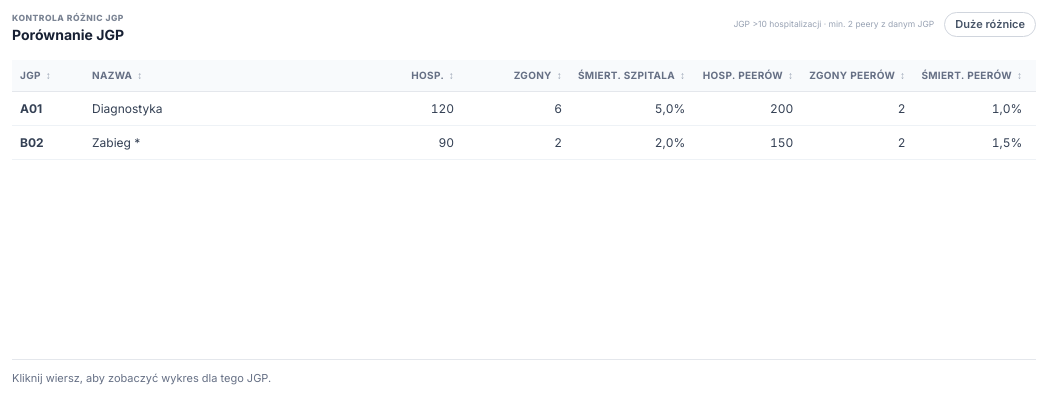
Test: JgpMortalityDifferenceTable — odchylenia JGP › filtruje JGP po dużych różnicach śmiertelności i zmienia aria-pressed
Click the button "Duże różnice" at (990, 24), box [944,12,1036,37]
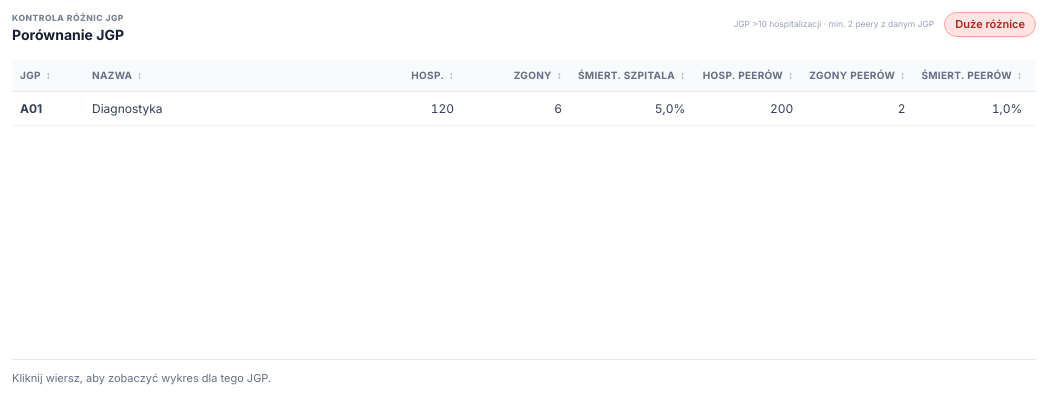
Expected: the text "A01" is shown, [20,100,42,116]
Result: the text "B02" is gone
Click the button "Duże różnice" at (990, 24), box [944,12,1036,37]
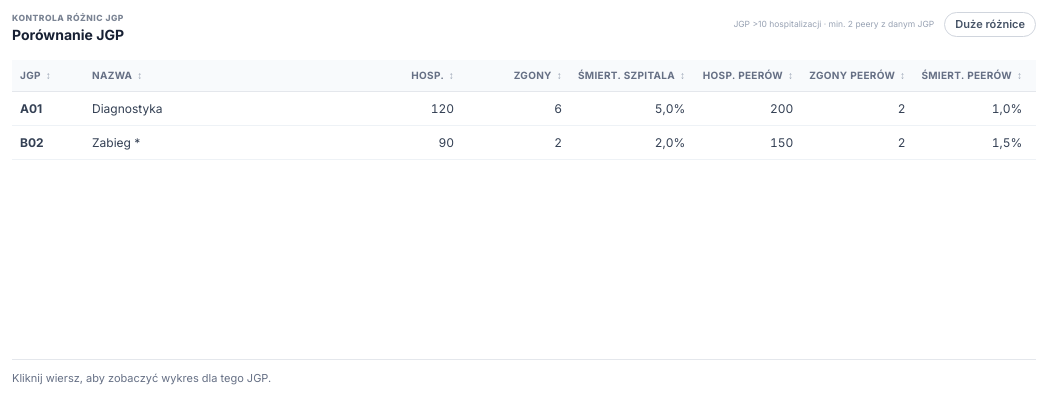
Result: the text "B02" is shown at [20,134,44,150]
